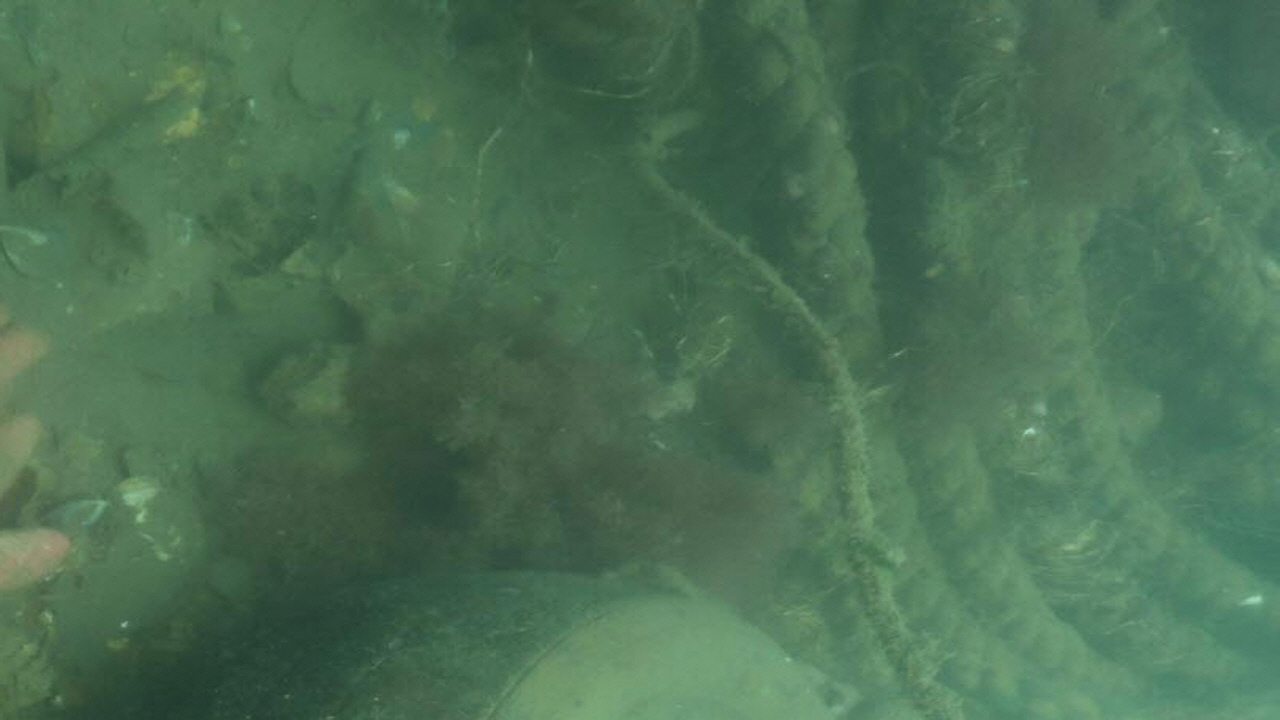bundle of ropes: (625, 0, 1280, 720)
